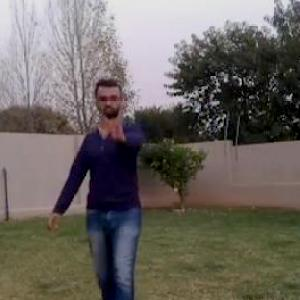takeoff-hand: (101, 106, 133, 144)
